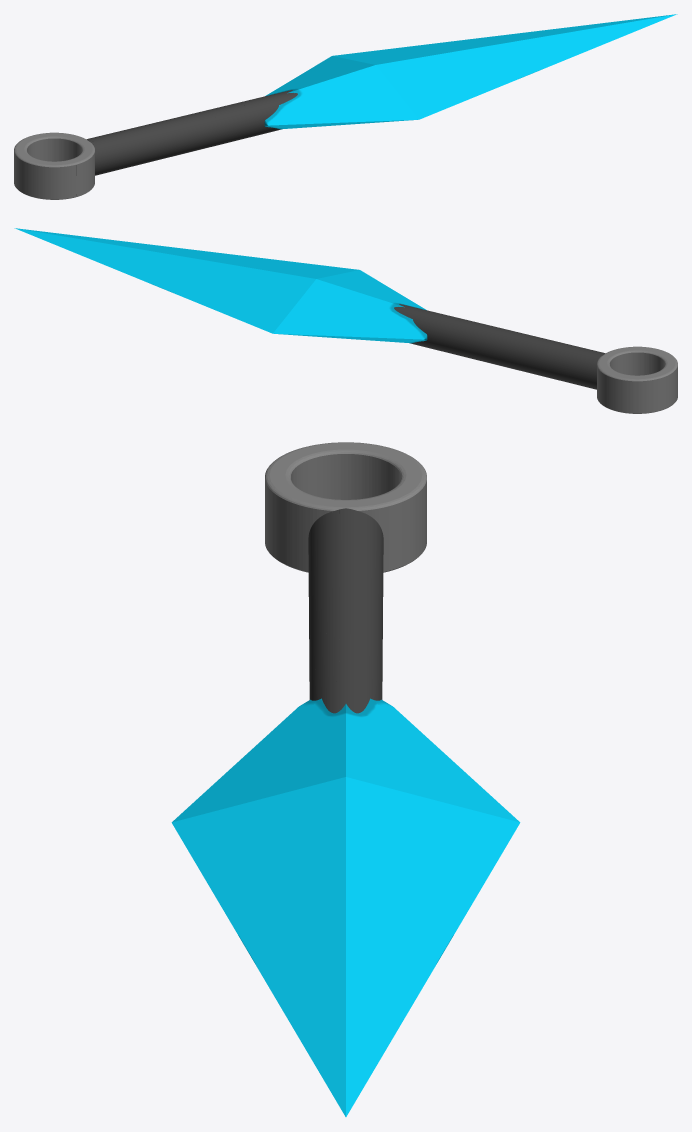
File: Kunai.fbx
3 renders of one model, top to bottom at view 1: azimuth 30°, elevation 25°; view 2: azimuth 150°, elevation 25°; view 3: azimuth 270°, elevation 25°, orthographic. The views are drawn at different scales.
Visible parts, largest first — view 1: KunaiEdge, KunaiHandle, Cycle; view 2: KunaiEdge, KunaiHandle, Cycle; view 3: KunaiEdge, Cycle, KunaiHandle.
Boxes of the visible parts, x1,y1,x2,y2 form: KunaiEdge: (264,14,677,129); KunaiHandle: (86,90,297,175); Cycle: (14,132,94,199); KunaiEdge: (14,228,427,343); KunaiHandle: (394,304,605,389); Cycle: (597,346,677,413); KunaiEdge: (171,698,520,1116); Cycle: (265,442,426,572); KunaiHandle: (308,508,383,713).
Size of the model in its own units: 779 by 51.61 by 179.
Materials: 3 (3 with a texture image).
